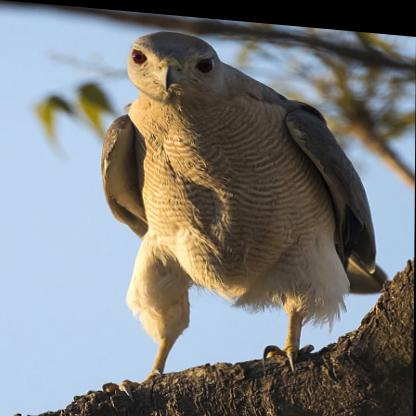Burung: (100, 23, 377, 415)
